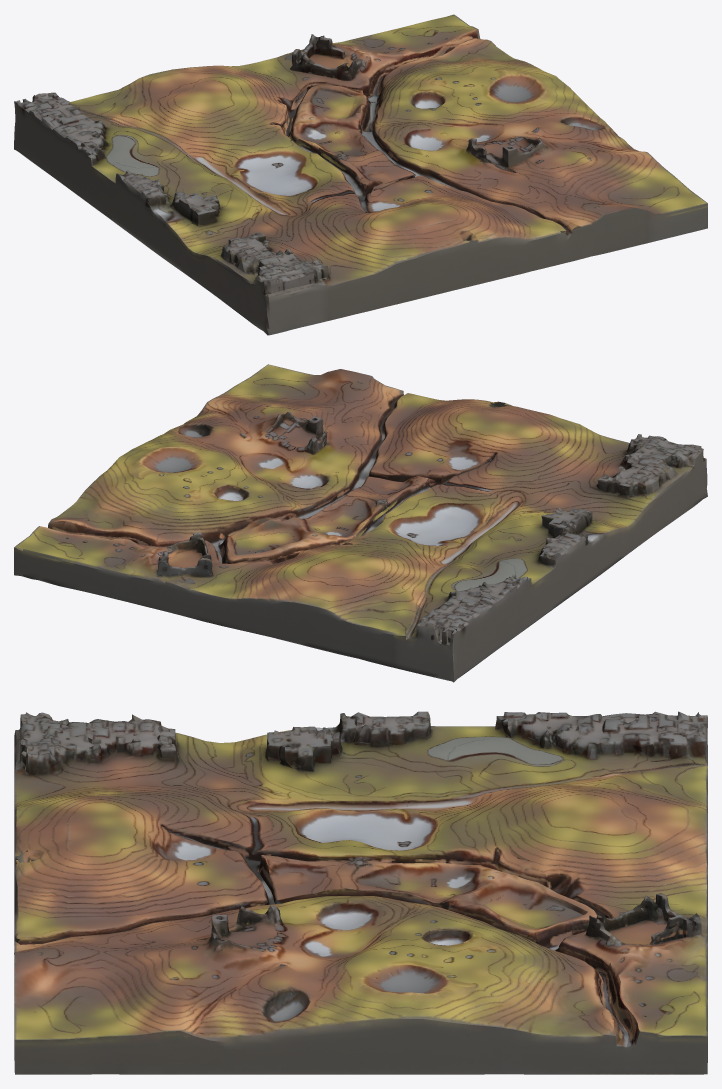
File: NurembergLandscape.glb
3 renders of one model, top to bottom at view 1: azimuth 30°, elevation 25°; view 2: azimuth 150°, elevation 25°; view 3: azimuth 270°, elevation 25°, orthographic. The views are drawn at different scales.
Visible parts, largest first — view 1: Mesh0; view 2: Mesh0; view 3: Mesh0.
Part boxes in pixels (x1,y1,x2,y2): Mesh0: (14,14,707,335); Mesh0: (14,364,707,682); Mesh0: (14,711,707,1074).
Size of the model in its own units: 2.01 by 0.2422 by 2.01.
1 material, 1 textured.
